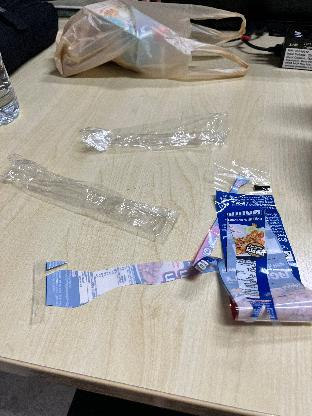Others: (191, 154, 312, 344), (0, 152, 186, 242), (76, 97, 234, 157)
